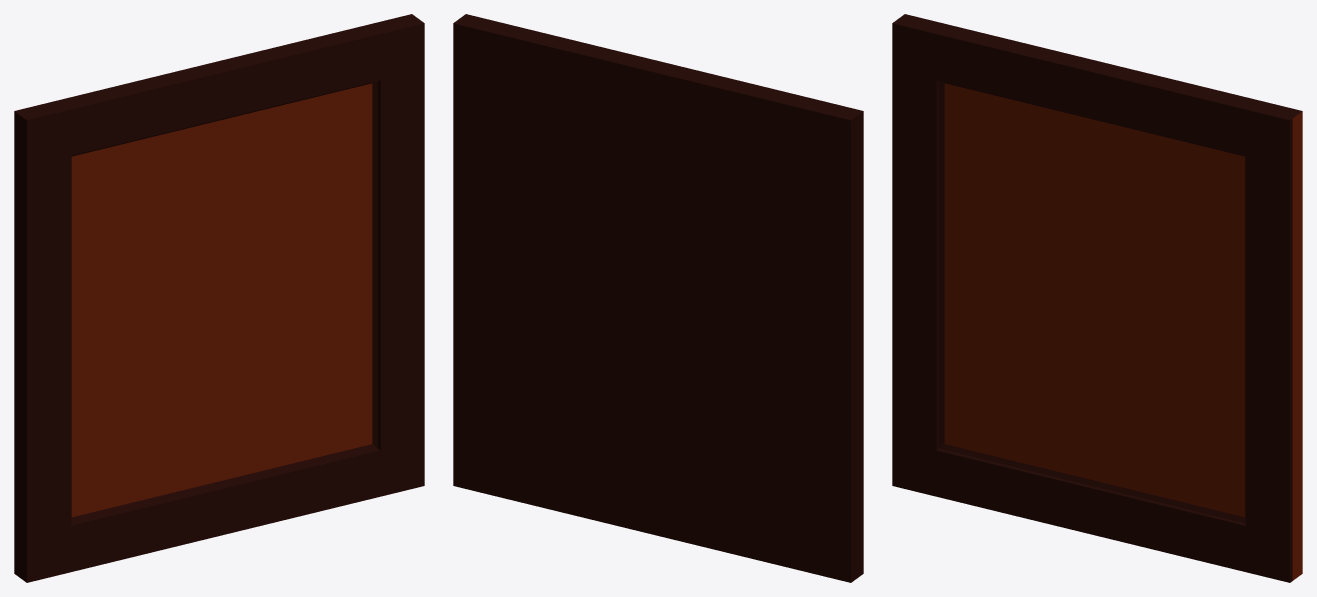
File: mirror v2 2017 fbx.FBX
3 renders of one model, left to right at view 1: azimuth 30°, elevation 25°; view 2: azimuth 150°, elevation 25°; view 3: azimuth 330°, elevation 25°, orthographic.
Visible parts, largest first — view 1: Box001; view 2: Box001; view 3: Box001.
Boxes of the visible parts, <box> form: Box001: <box>14,14,424,582</box>; Box001: <box>453,14,863,582</box>; Box001: <box>892,14,1302,582</box>.
Size of the model in its own units: 90 by 100 by 5.
